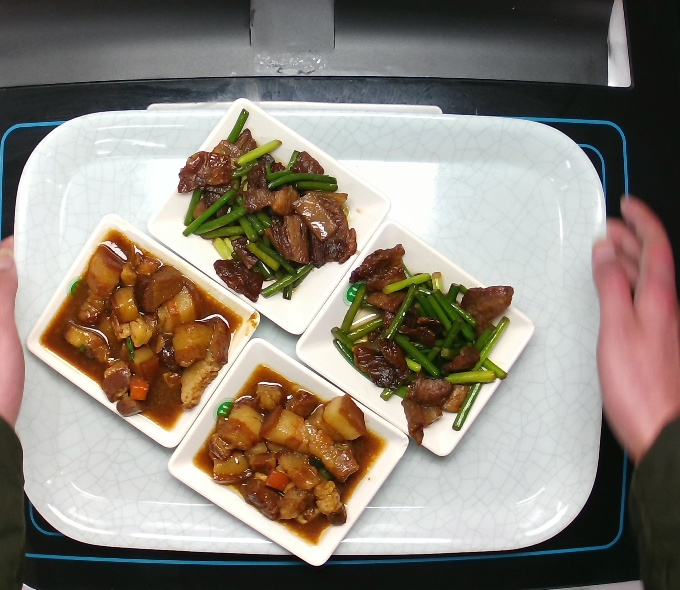wcq-HongShaoRou: (44, 226, 245, 436), (195, 363, 382, 554)
wcq-SuanMiaoChaoRou: (175, 107, 362, 313), (329, 237, 516, 443)
